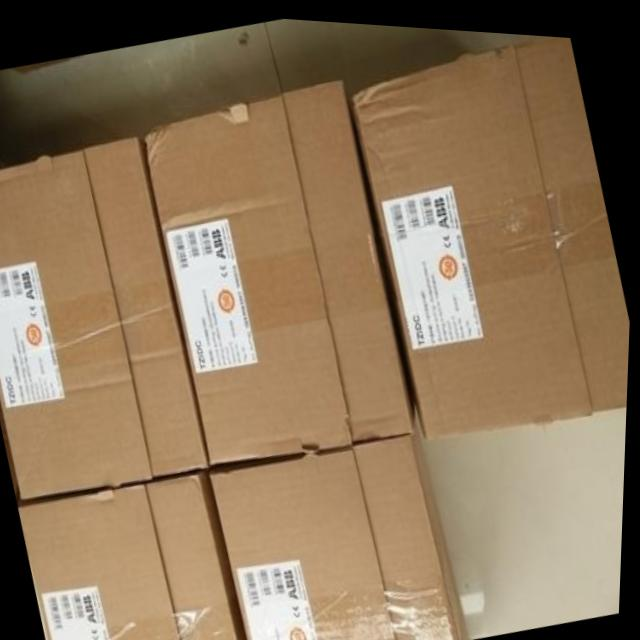box: (347, 29, 632, 437), (143, 74, 418, 470), (0, 134, 214, 506), (212, 396, 476, 640), (22, 471, 252, 640)
